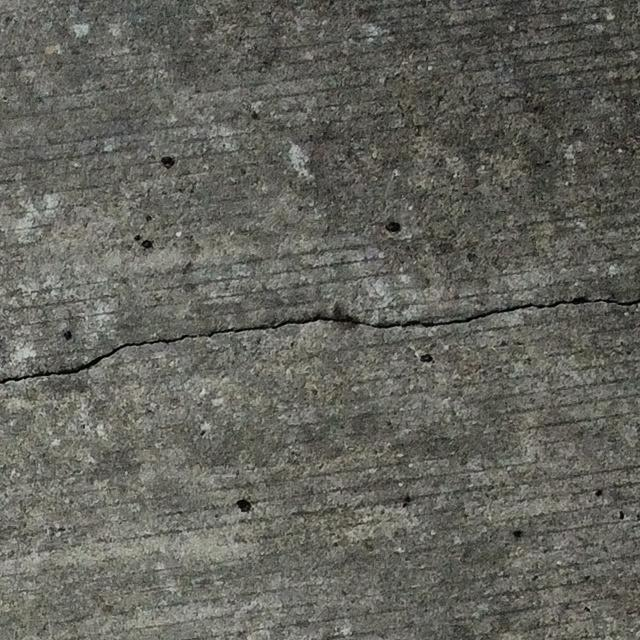TransverseCrack: (1, 297, 640, 384)
